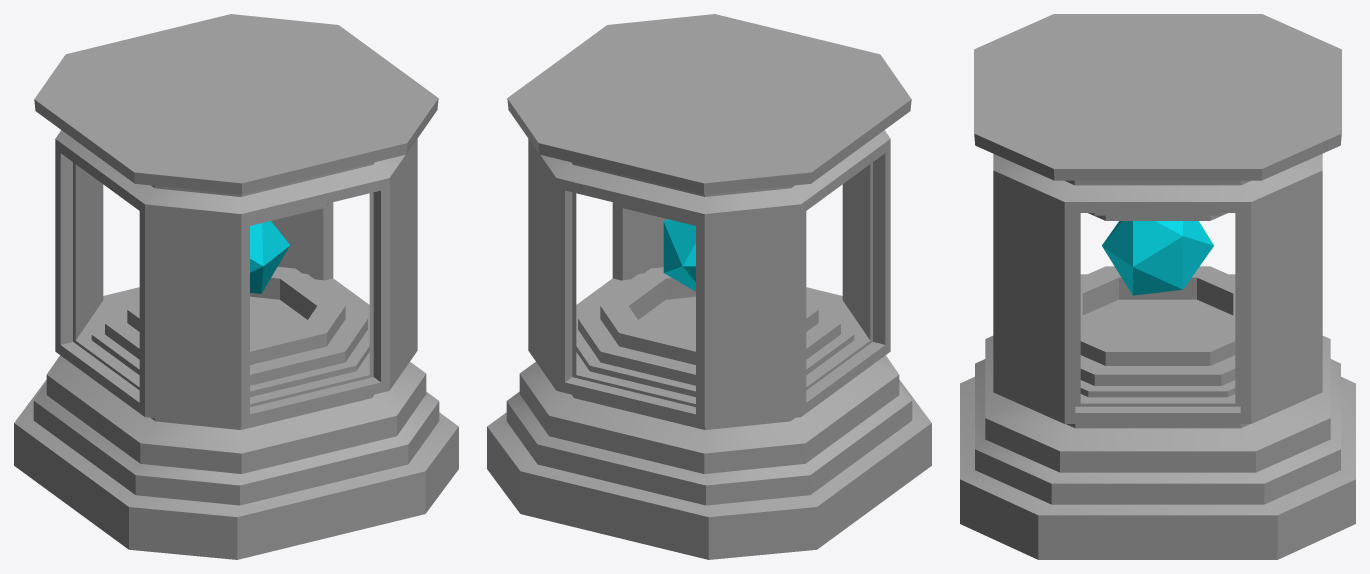
File: Statue Pedestal 2_0.fbx
3 views of the same model, side by side, from view 1: azimuth 30°, elevation 25°; view 2: azimuth 150°, elevation 25°; view 3: azimuth 270°, elevation 25° (orthographic). The views are drawn at different scales.
Visible parts, largest first — view 1: polySurface7; view 2: polySurface7; view 3: polySurface7.
Boxes of the visible parts, bbox=[...] form: polySurface7: bbox=[14, 14, 458, 559]; polySurface7: bbox=[487, 14, 931, 559]; polySurface7: bbox=[960, 14, 1355, 559].
Size of the model in its own units: 230 by 246 by 230.
